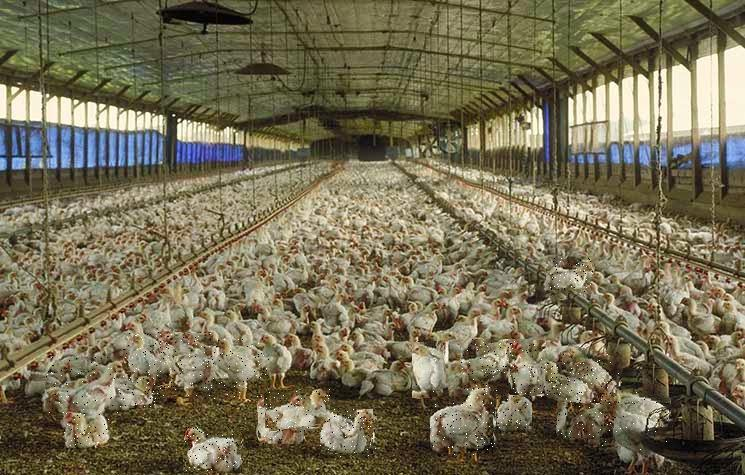chicken: (46, 356, 130, 413), (597, 389, 670, 451), (430, 389, 495, 455), (156, 333, 215, 401), (216, 339, 269, 399), (561, 347, 625, 393), (461, 340, 515, 392), (321, 409, 377, 458), (265, 390, 330, 431), (184, 427, 243, 472), (538, 363, 597, 404), (258, 395, 305, 446), (556, 404, 615, 442), (413, 341, 448, 399), (510, 340, 545, 396), (123, 334, 163, 378), (63, 410, 109, 447), (547, 259, 594, 293), (110, 375, 158, 408), (496, 395, 532, 429)
